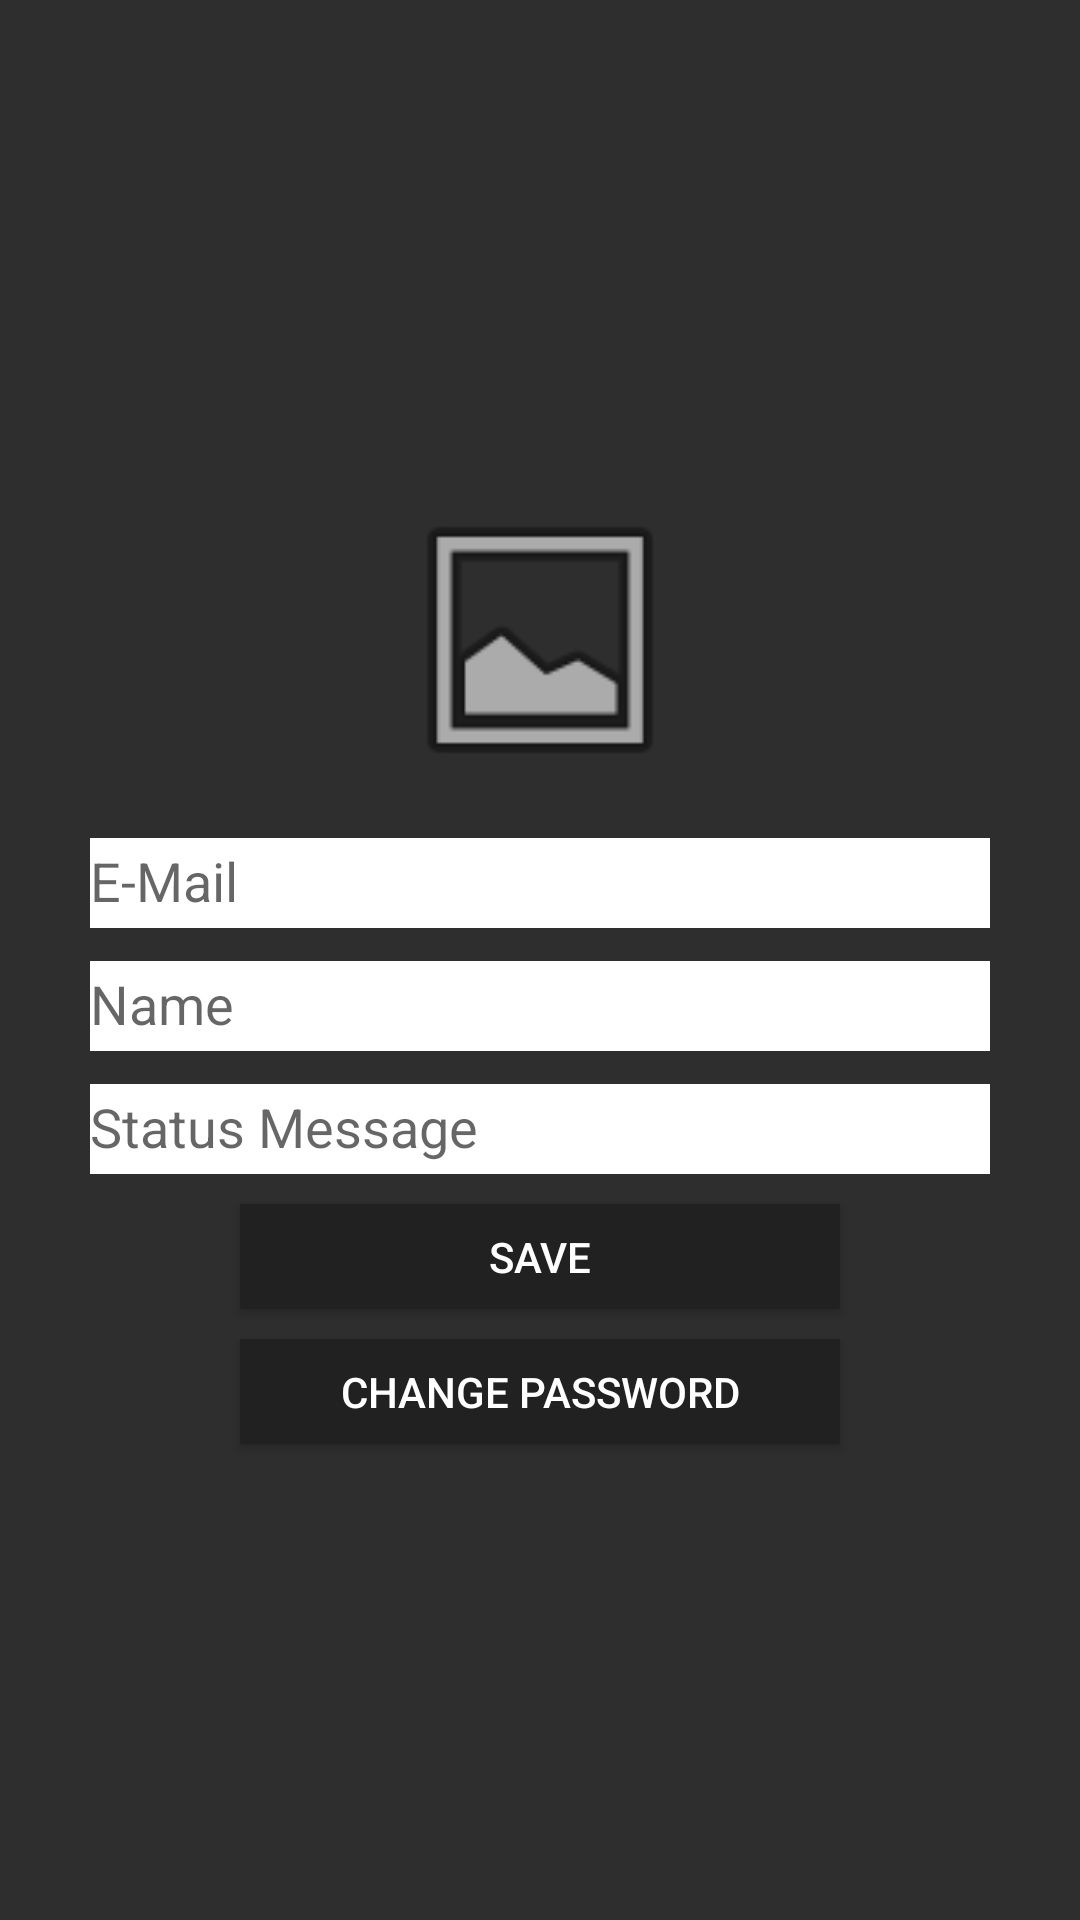

Locate icon controls on the screen. Image size 1080px x 1920px, boxes as bbox=[x1, y1, x2, y2].
gallery: bbox=[427, 527, 653, 753]
